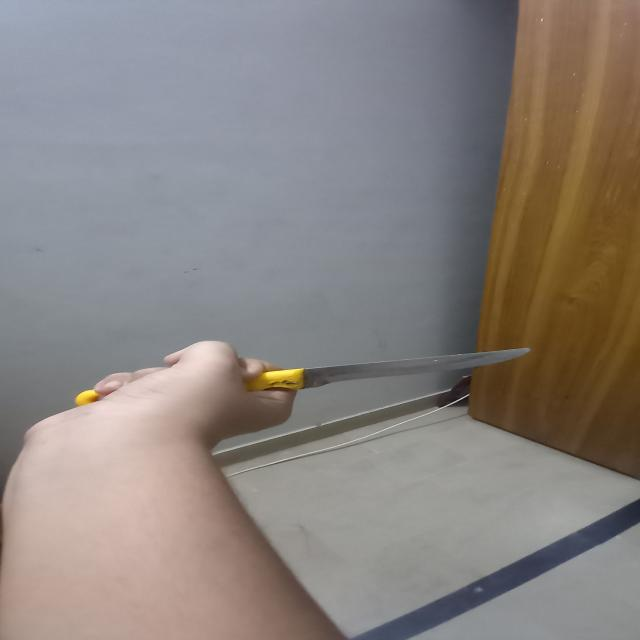Knife: (28, 345, 547, 422)
